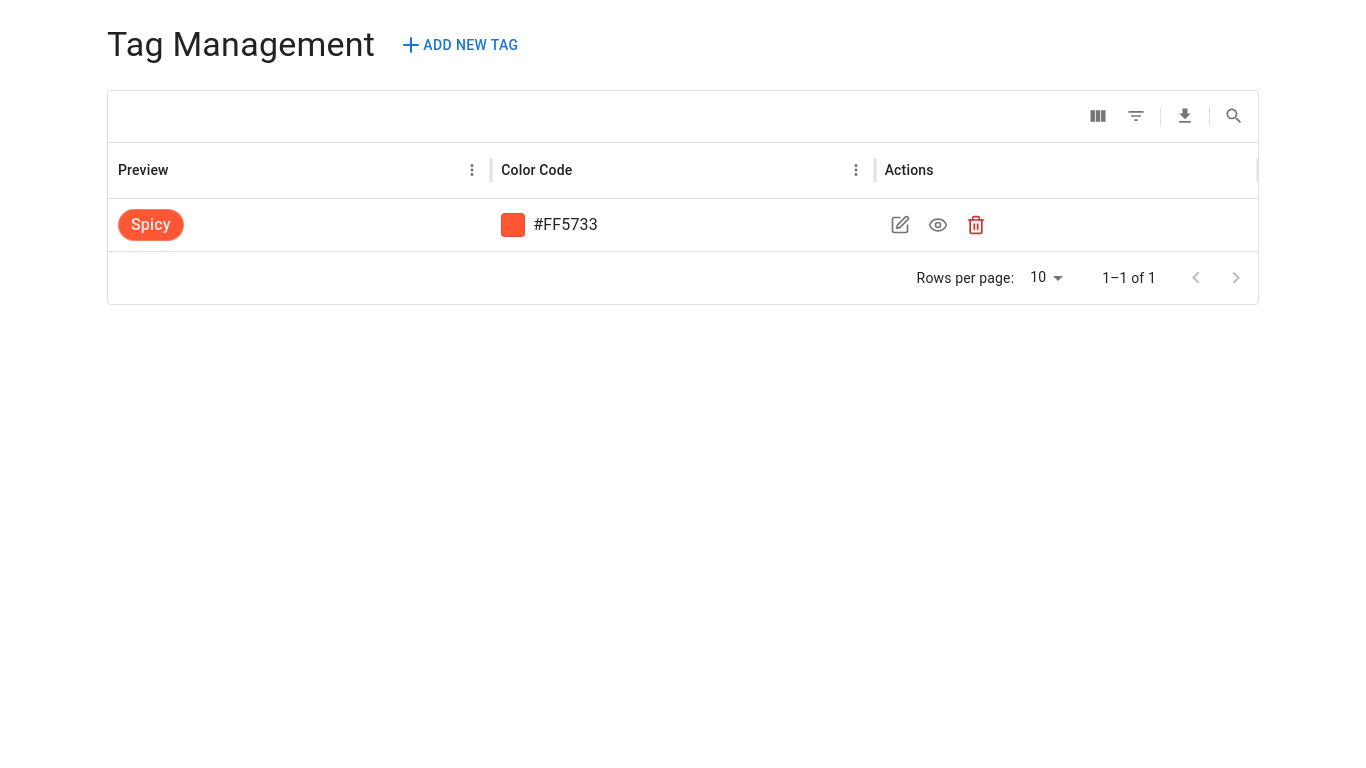
Scenario: Tag add/edit dialog › keeps the dialog open with the server's reason when saving fails
The image size is (1366, 768).
Expected: the text "#FF5733" is shown, [533, 214, 598, 238]
Click the button "Add New Tag" at point(459, 45), box [391, 27, 526, 63]
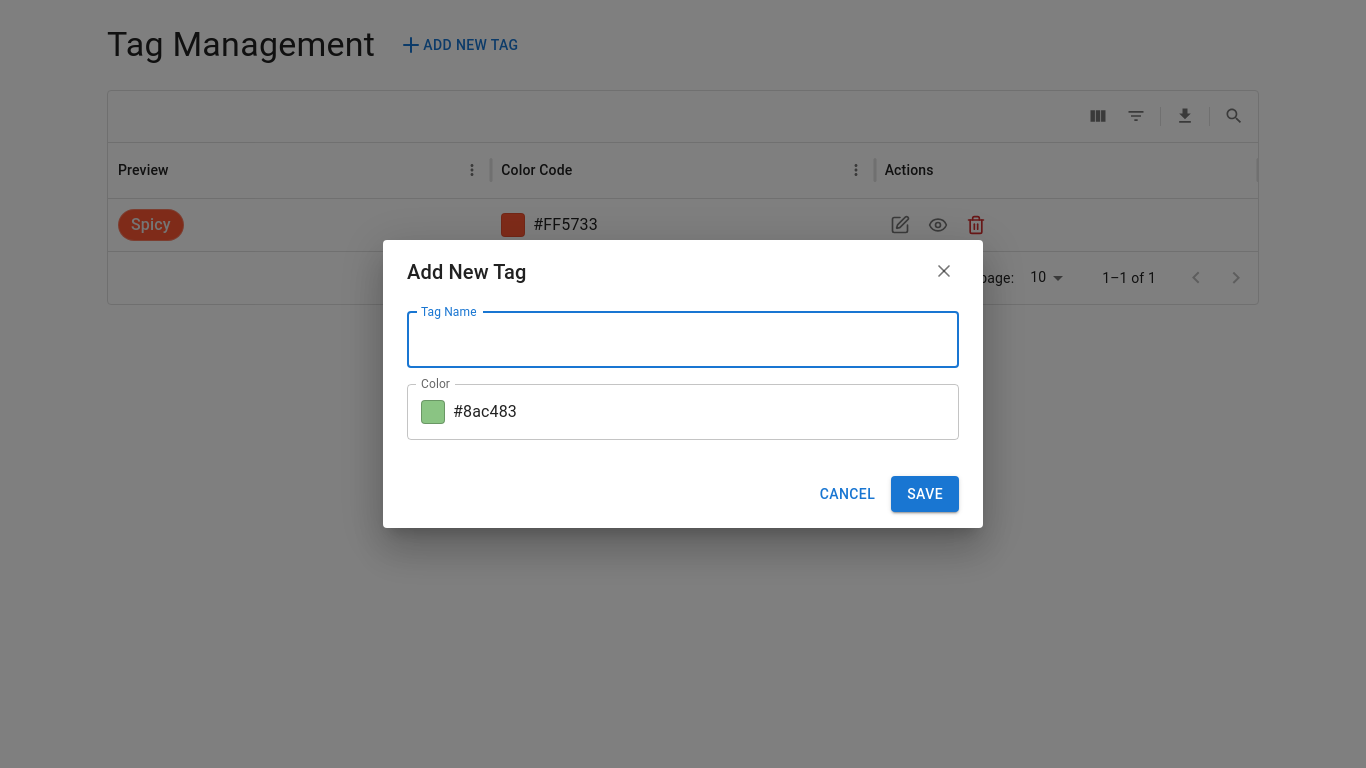
Type "Spicy" into the field labelled "Tag Name" at point(683, 340), box [407, 312, 959, 368]
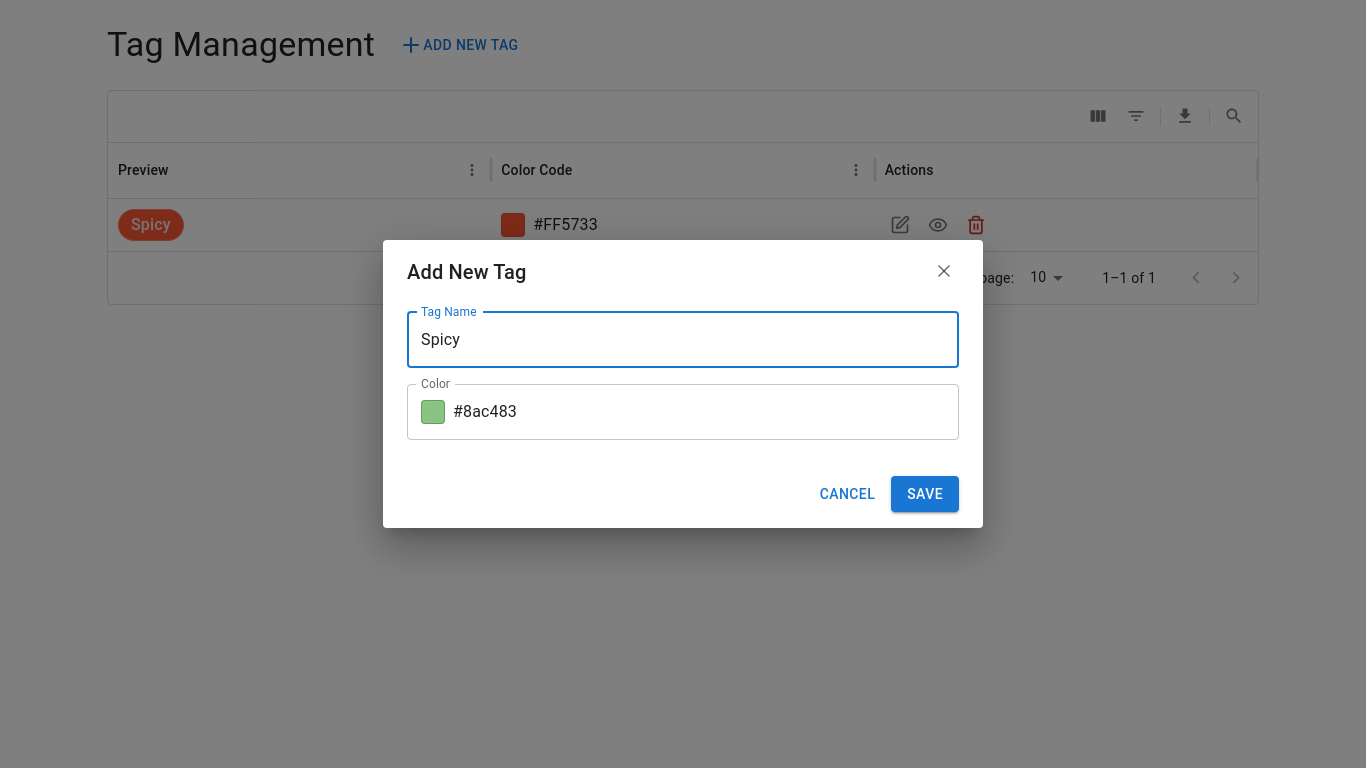
Click the button "Save" at point(925, 494), box [891, 476, 959, 512]
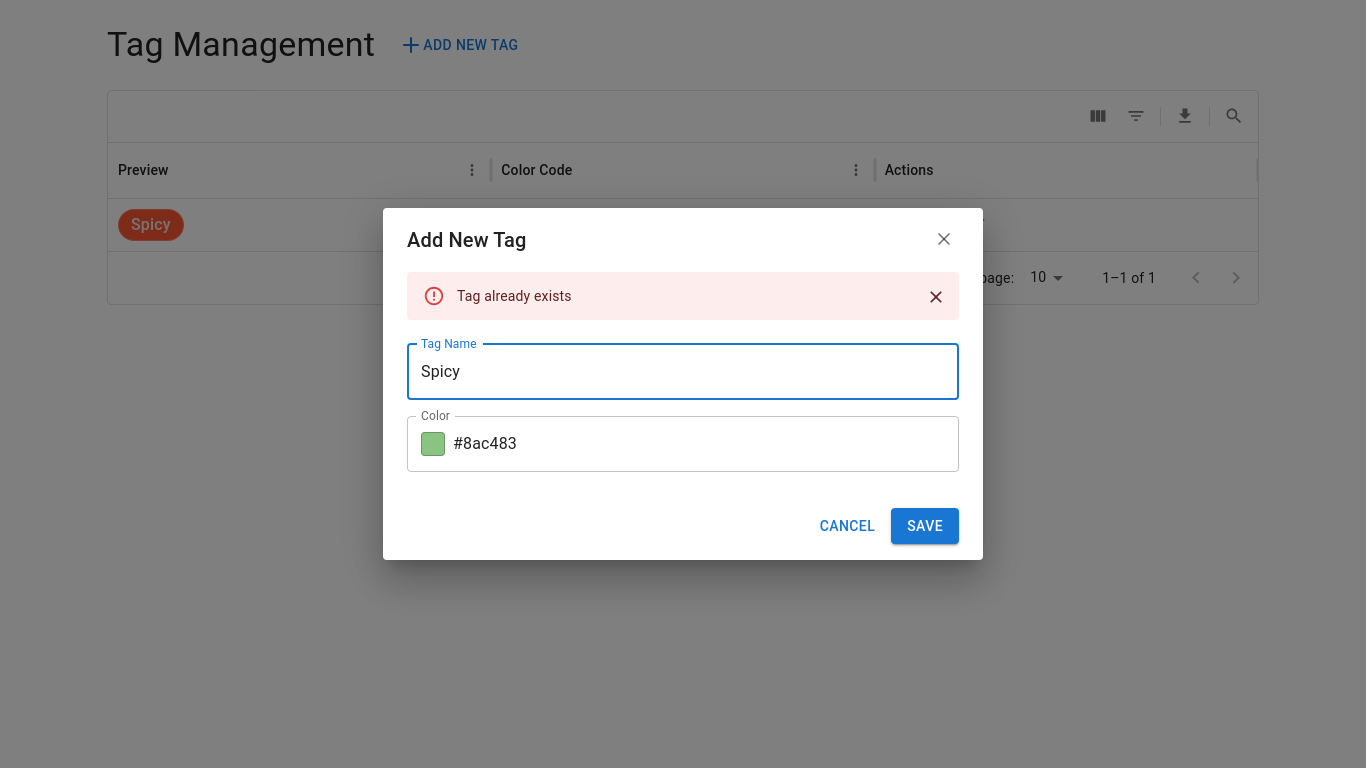
Expected: the text "Tag already exists" is shown, [457, 288, 572, 304]
